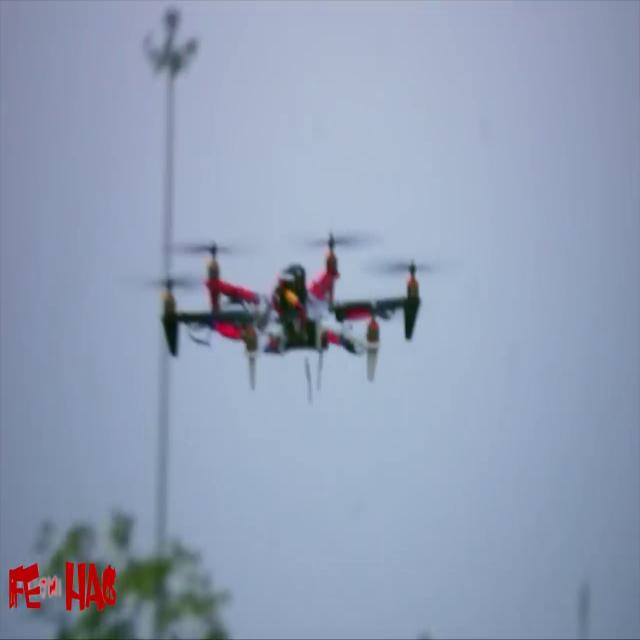drone: (116, 208, 444, 408)
